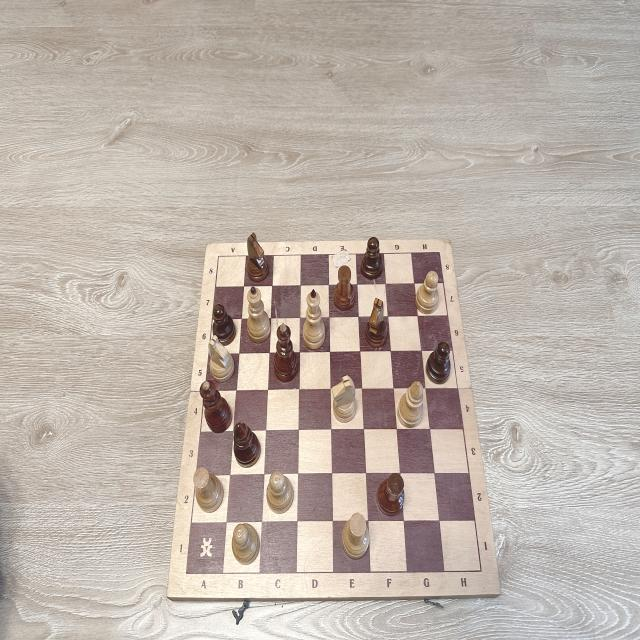chess-table-corners: (214, 250, 224, 264), (476, 564, 486, 578), (182, 566, 191, 580), (436, 248, 442, 258)
